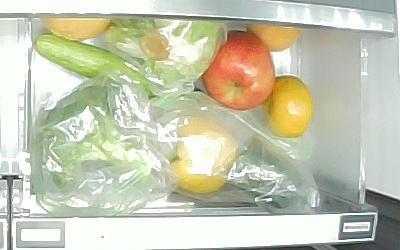apple: (201, 30, 276, 112)
broccoli_vinyl: (36, 84, 155, 189)
cucumber: (35, 34, 217, 121)
grapefruit: (38, 17, 113, 44)
lettuce_vinyl: (108, 19, 222, 84)
paprika_vinyl: (163, 116, 238, 198), (228, 138, 303, 208)
peach: (246, 23, 306, 52)
persimmon: (266, 75, 314, 140)
